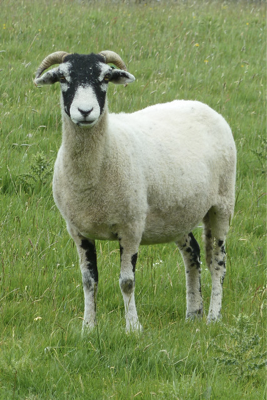koyun: (32, 50, 236, 345)
